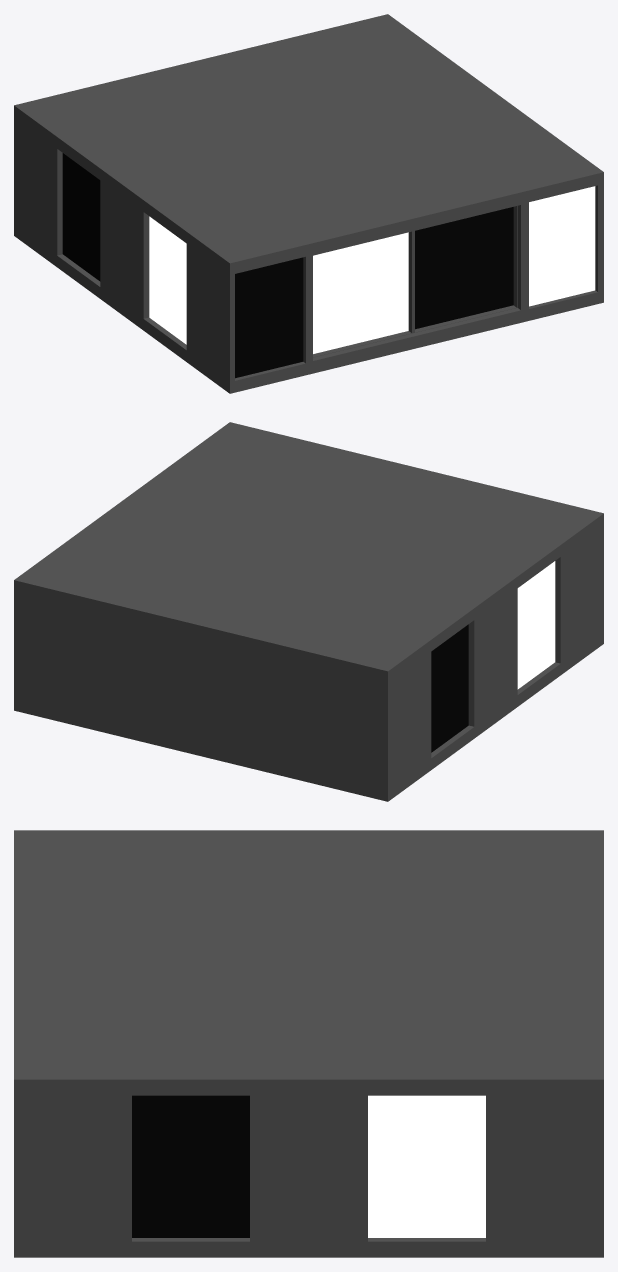
The model's file is 30x30x10Milieu3.fbx.
3 views of the same model, one above another, from view 1: azimuth 30°, elevation 25°; view 2: azimuth 150°, elevation 25°; view 3: azimuth 270°, elevation 25° (orthographic). The views are drawn at different scales.
Visible parts, largest first — view 1: Cube.036; view 2: Cube.036; view 3: Cube.036.
Boxes of the visible parts, <box> form: Cube.036: <box>14,14,603,393</box>; Cube.036: <box>14,422,603,801</box>; Cube.036: <box>14,830,603,1257</box>.
Size of the model in its own units: 3000 by 1000 by 3000.
